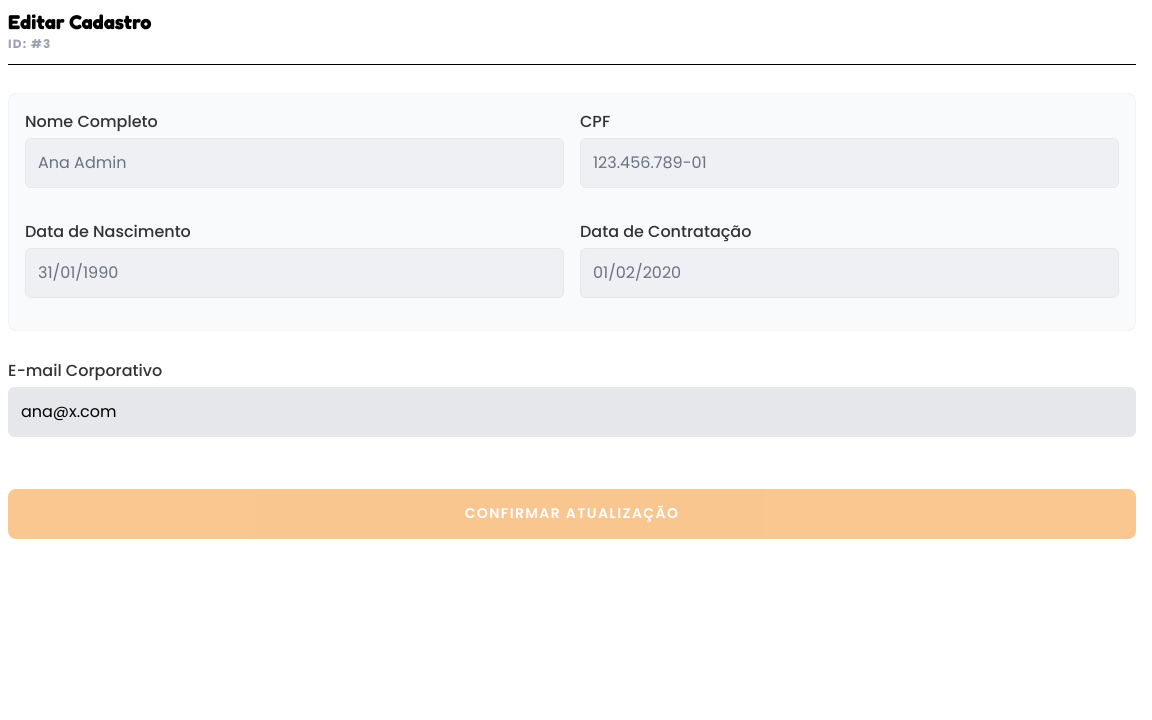
Test case: falha de escrita que não é um Error: cada formulário usa o seu texto de reserva › UpdateCoord
Replace the text in the field labelled "E-mail Corporativo" with "novo@x.com". click: (572, 412)
box: [8,387,1136,437]
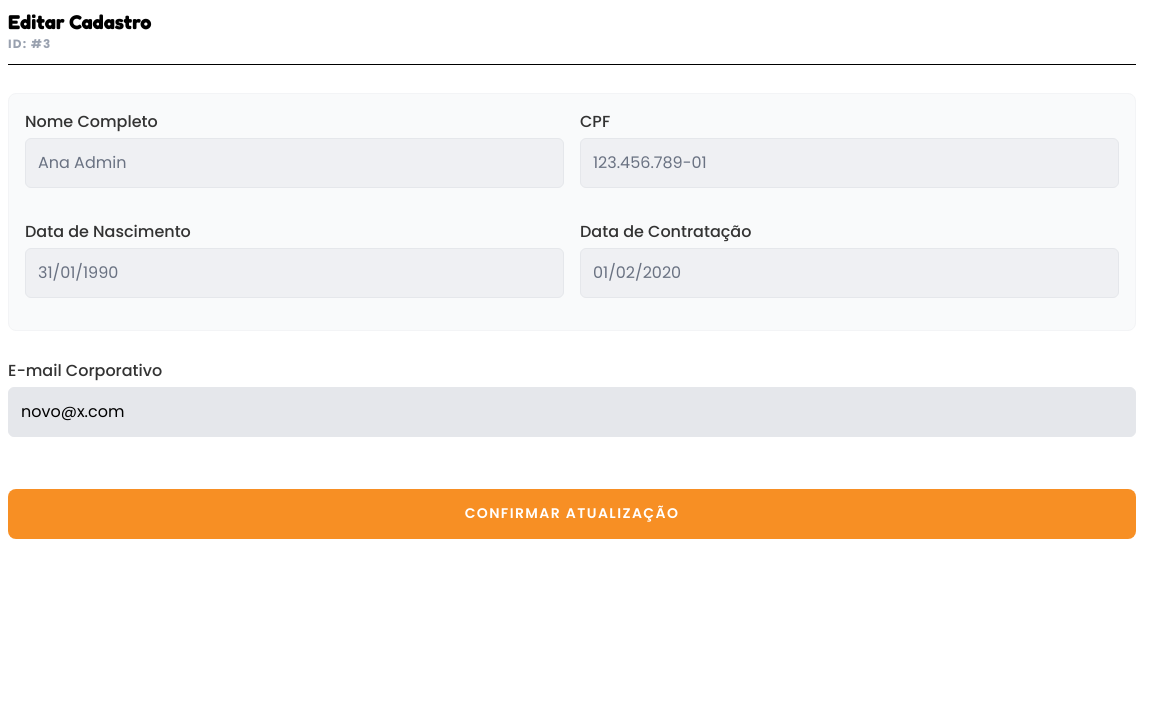
Click the button "Confirmar Atualização". click: (572, 514)
box: [8,489,1136,538]
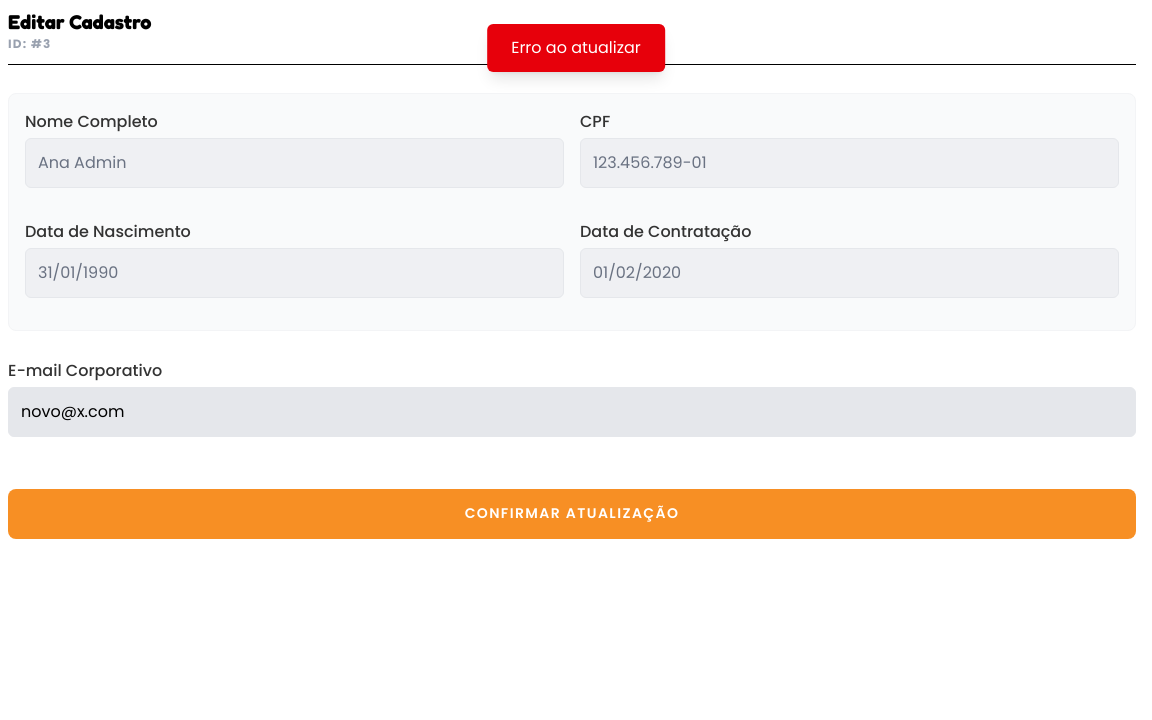
Expected: the text "Erro ao atualizar" is shown, [487,24,665,72]
